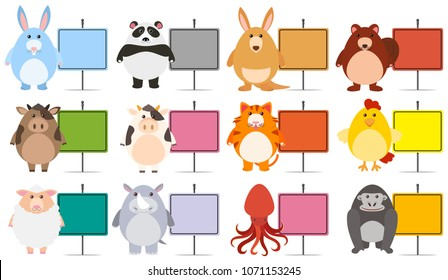animal: (3, 3, 67, 89), (331, 21, 406, 94), (115, 11, 180, 94), (112, 179, 180, 256), (229, 181, 293, 261), (225, 6, 288, 87), (6, 99, 75, 172), (119, 102, 184, 173), (225, 103, 290, 173), (343, 184, 402, 258), (7, 184, 67, 256)
bird: (338, 99, 407, 171)
